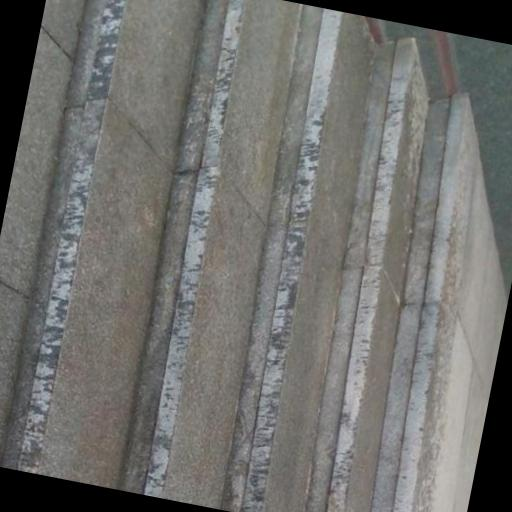stairs: (2, 0, 477, 511)
